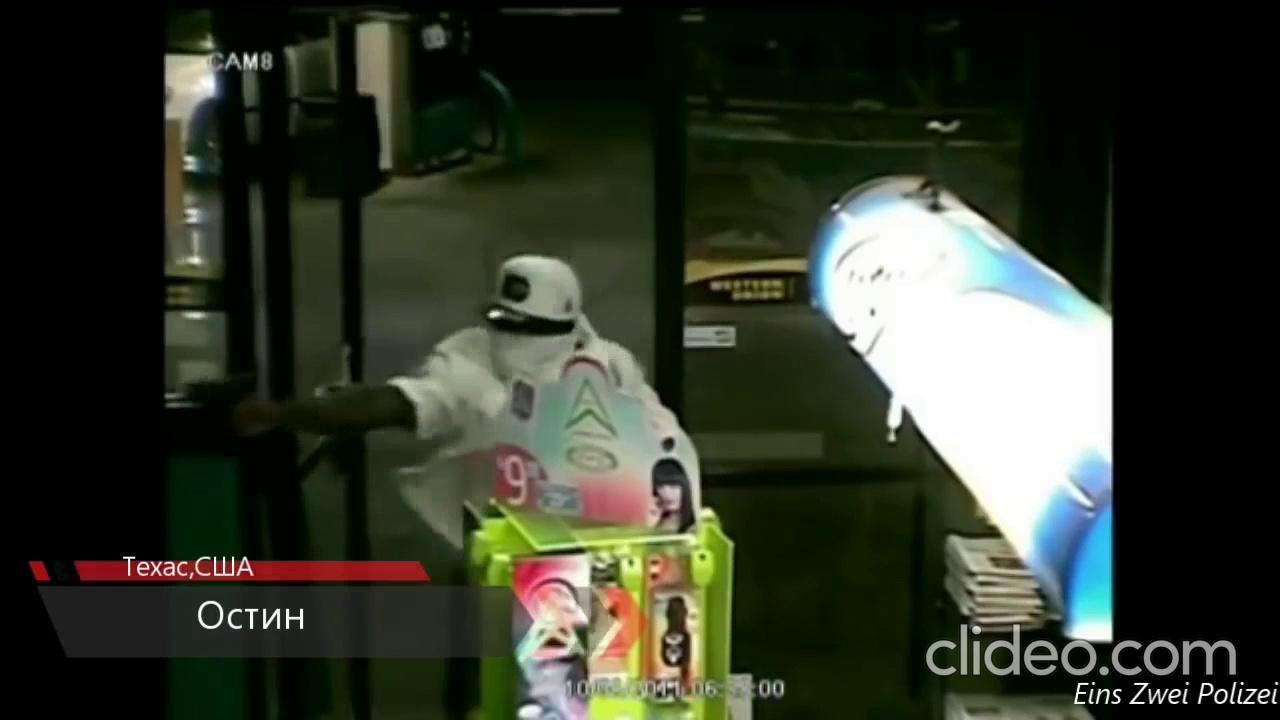person: (228, 255, 661, 475)
pistol: (182, 368, 255, 416)
